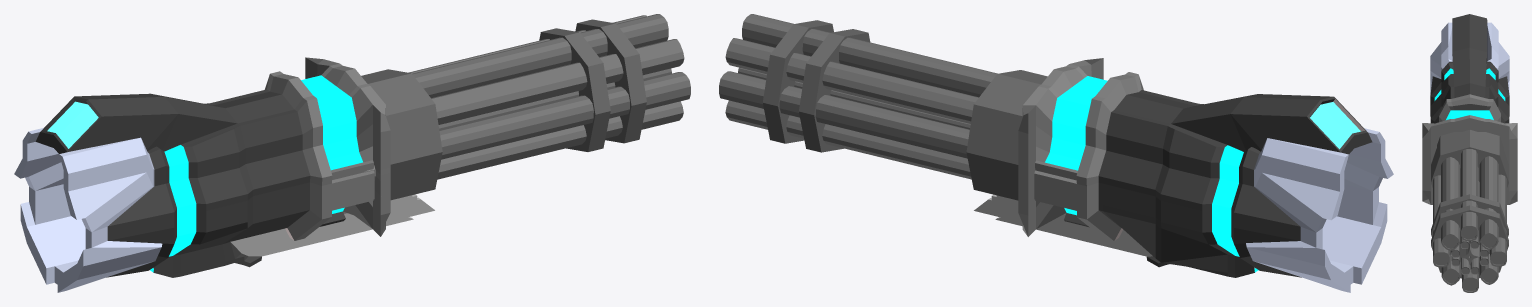
File: Hellfire Gatling.fbx
3 views of the same model, side by side, from view 1: azimuth 30°, elevation 25°; view 2: azimuth 150°, elevation 25°; view 3: azimuth 270°, elevation 25° (orthographic). The views are drawn at different scales.
Parts seen in each view (by area): view 1: Gun Base, Barrels, Gun Barrel Support; view 2: Gun Base, Barrels, Gun Barrel Support; view 3: Gun Base, Barrels, Gun Barrel Support.
Part boxes in pixels (box(x1,y1,x2,y2)): Gun Base: box(14, 57, 434, 292); Barrels: box(409, 14, 690, 179); Gun Barrel Support: box(361, 19, 646, 200); Gun Base: box(974, 58, 1393, 292); Barrels: box(719, 14, 997, 179); Gun Barrel Support: box(762, 20, 1047, 200); Gun Base: box(1422, 14, 1517, 204); Barrels: box(1433, 149, 1506, 292); Gun Barrel Support: box(1431, 130, 1508, 278).
Size of the model in its own units: 8015 by 2517 by 1703.
